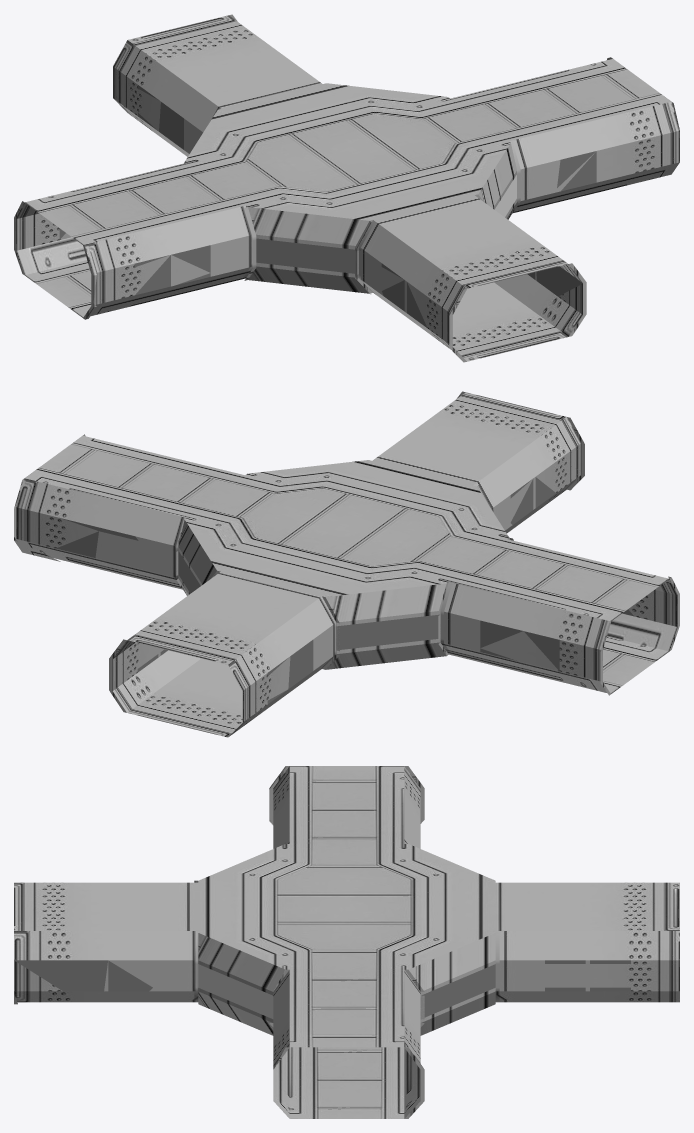
The model's file is Lab (1).fbx.
3 views of the same model, one above another, from view 1: azimuth 30°, elevation 25°; view 2: azimuth 150°, elevation 25°; view 3: azimuth 270°, elevation 25° (orthographic). The views are drawn at different scales.
Parts seen in each view (by area): view 1: lab; view 2: lab; view 3: lab.
Part boxes in pixels (left/top/right/bottom): lab: left=14, top=14, right=679, bottom=362; lab: left=14, top=391, right=679, bottom=737; lab: left=14, top=766, right=679, bottom=1118.
Bounding box in the file's own units: 4280 × 507 × 4280.
6 materials, 1 textured.
